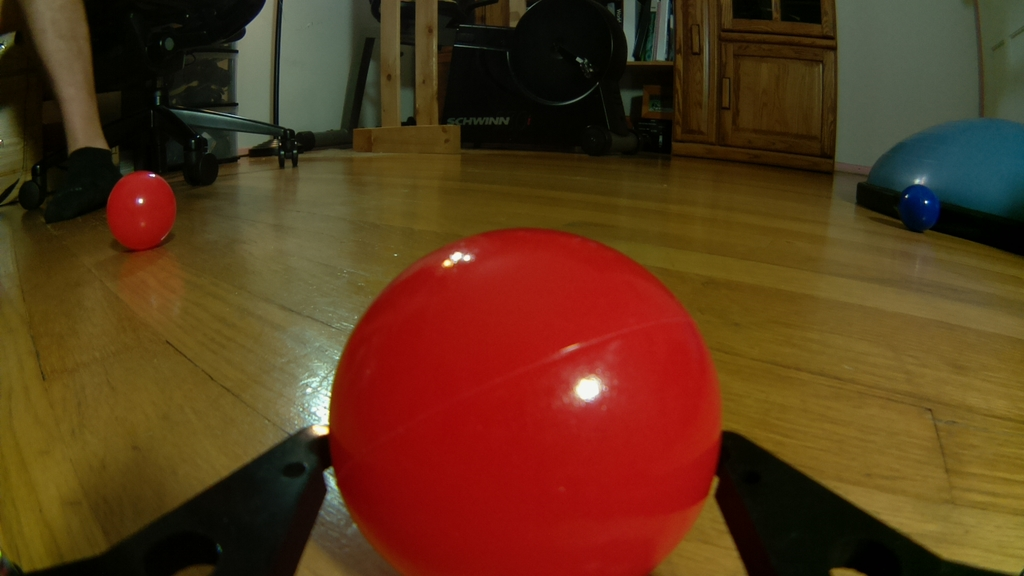ball: (104, 172, 178, 252)
